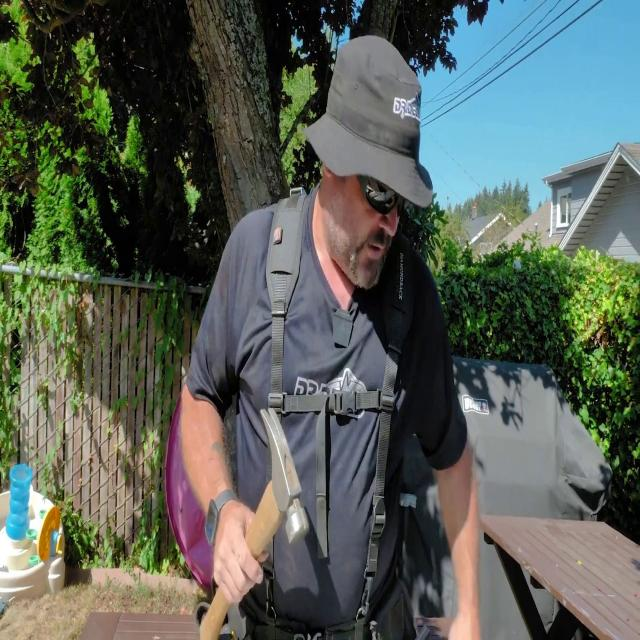hammer: (197, 406, 308, 640)
